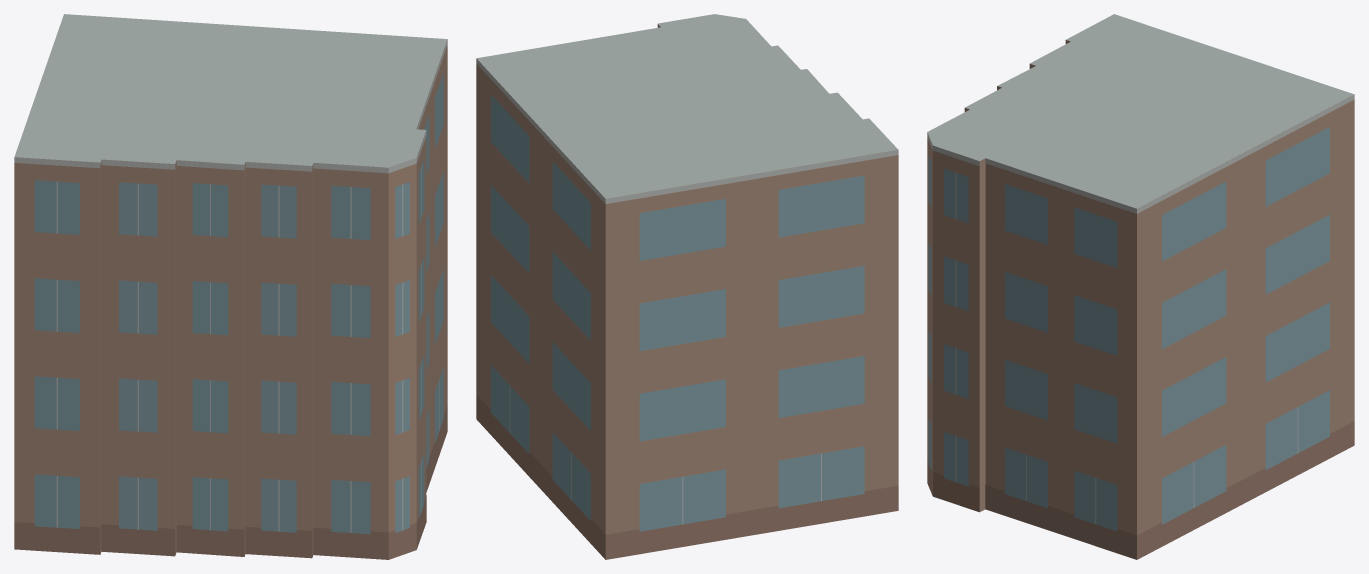
The model's file is survey-upis-32798340.glb.
3 renders of one model, left to right at view 1: azimuth 30°, elevation 25°; view 2: azimuth 150°, elevation 25°; view 3: azimuth 270°, elevation 25°, orthographic. The views are drawn at different scales.
Parts seen in each view (by area): view 1: survey-upis-32798340.tmp; view 2: survey-upis-32798340.tmp; view 3: survey-upis-32798340.tmp.
Part boxes in pixels (x1,y1,x2,y2): survey-upis-32798340.tmp: (14, 14, 447, 559); survey-upis-32798340.tmp: (476, 14, 898, 559); survey-upis-32798340.tmp: (927, 14, 1354, 559).
Size of the model in its own units: 20.12 by 16.9 by 18.65.
